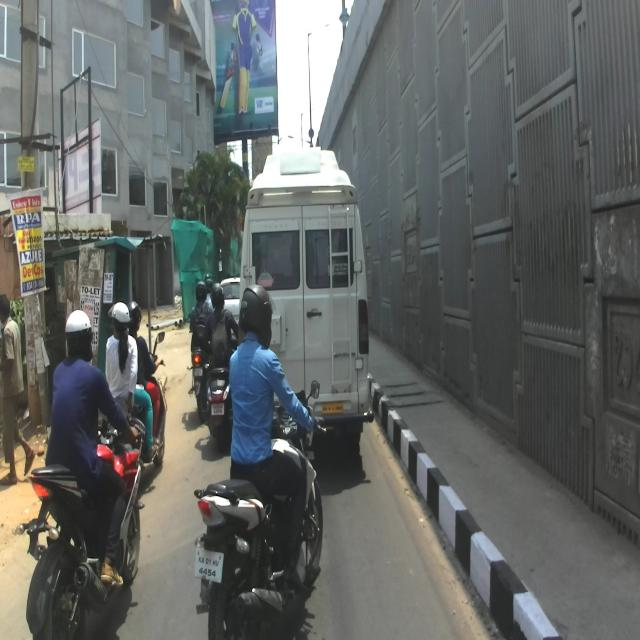mini-bus: (237, 147, 375, 447)
motorcycle_TVS: (193, 383, 326, 637)
motorcycle_Yamaha: (13, 417, 145, 638)
scooter: (204, 338, 237, 453)
